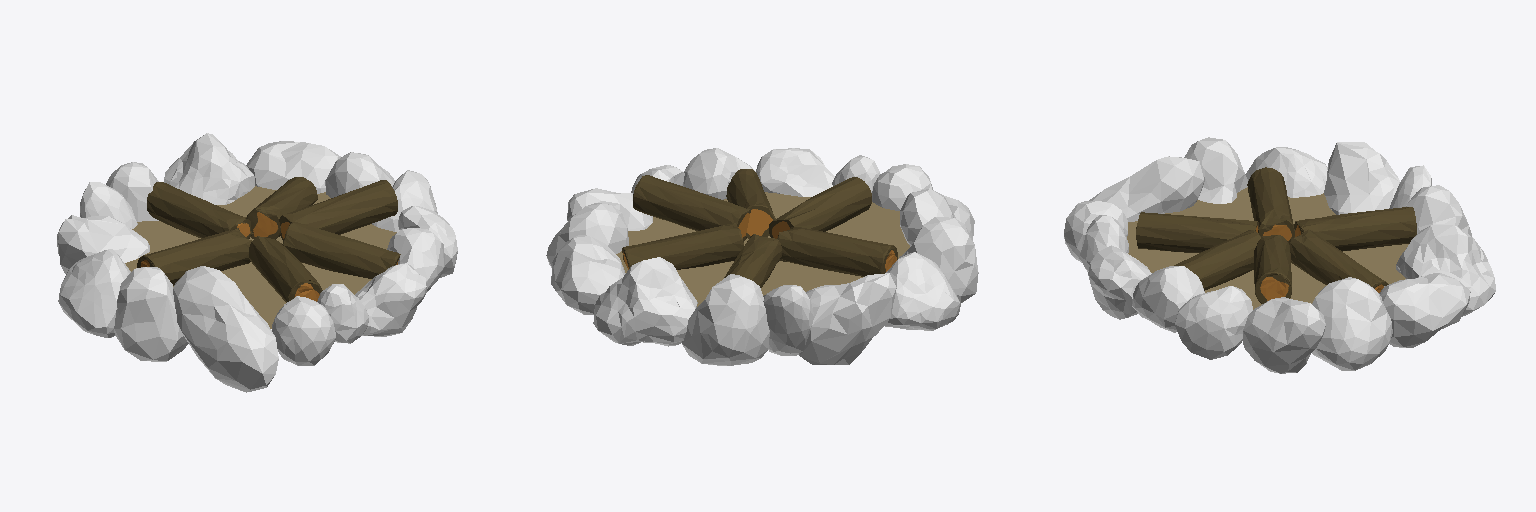
The picture shows the model from 3 angles: view 1: azimuth 30°, elevation 25°; view 2: azimuth 150°, elevation 25°; view 3: azimuth 270°, elevation 25°; orthographic projection.
Visible parts, largest first — view 1: rock.008, tree_log_Cylinder, ground_Circle; view 2: rock.008, tree_log_Cylinder, ground_Circle; view 3: rock.008, tree_log_Cylinder, ground_Circle.
Boxes of the visible parts, x1=… form: rock.008: x1=57, y1=133, x2=457, y2=392; tree_log_Cylinder: x1=137, y1=177, x2=400, y2=302; ground_Circle: x1=125, y1=186, x2=396, y2=328; rock.008: x1=546, y1=148, x2=978, y2=365; tree_log_Cylinder: x1=622, y1=169, x2=897, y2=287; ground_Circle: x1=616, y1=192, x2=909, y2=306; rock.008: x1=1064, y1=137, x2=1495, y2=373; tree_log_Cylinder: x1=1136, y1=167, x2=1416, y2=303; ground_Circle: x1=1127, y1=187, x2=1408, y2=309.
Bounding box in the file's own units: 3.66 × 0.9353 × 3.67.
Materials: 4 (3 with a texture image).